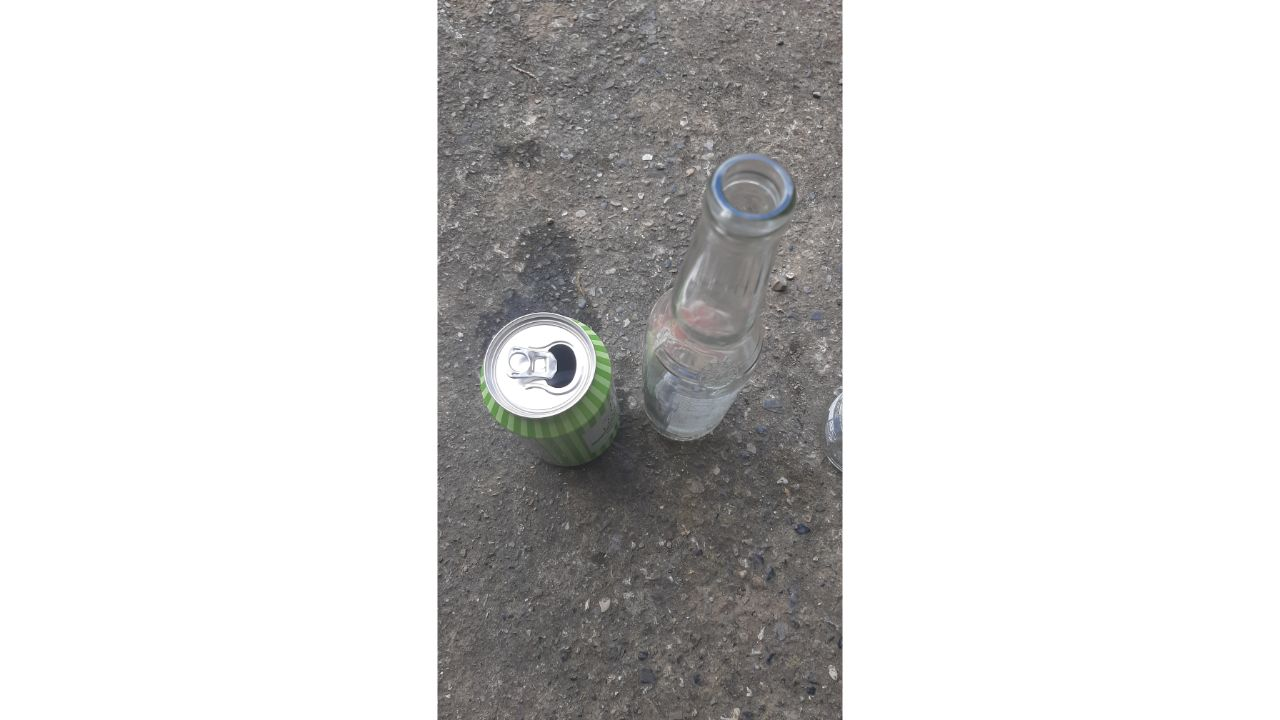Can: (466, 300, 633, 478)
